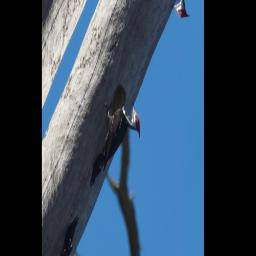Woodpecker: (77, 69, 146, 219)
